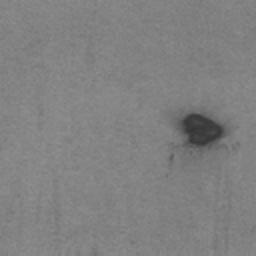Iron sheet ash: (183, 113, 223, 147)
